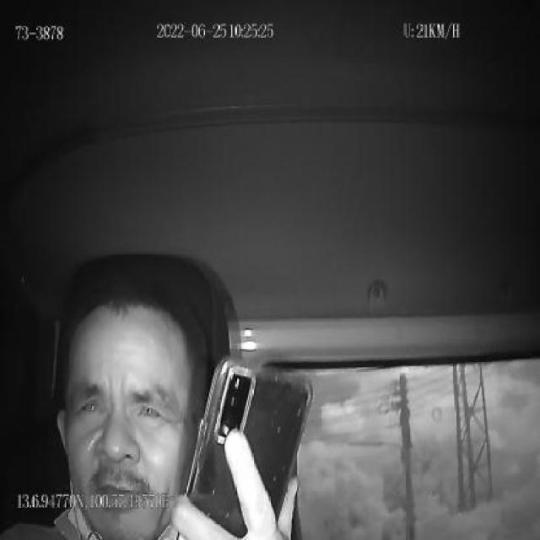phone: (177, 355, 314, 540)
